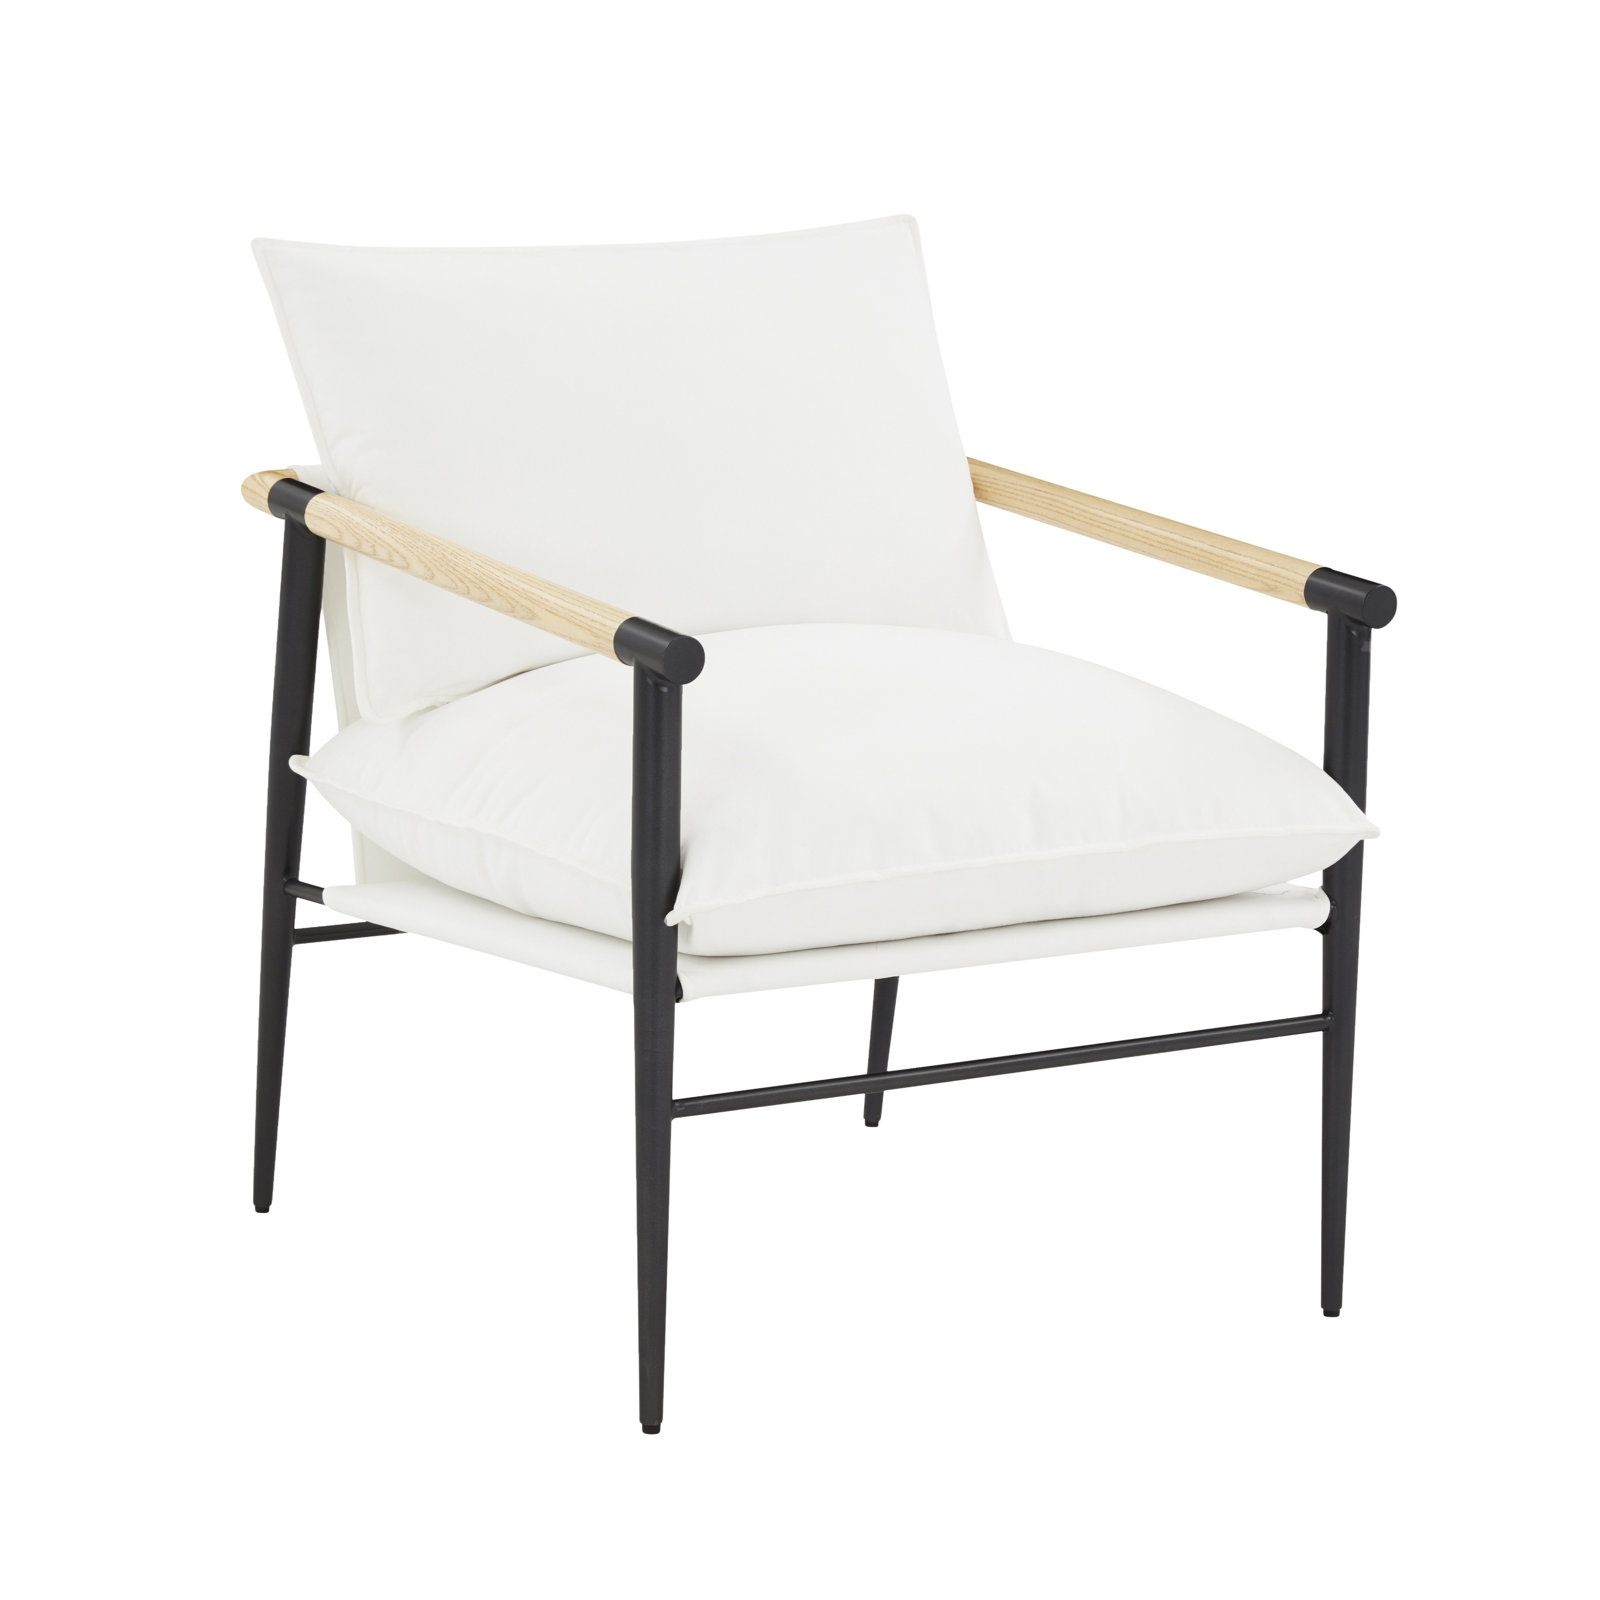obstacle: (255, 218, 1392, 1429)
